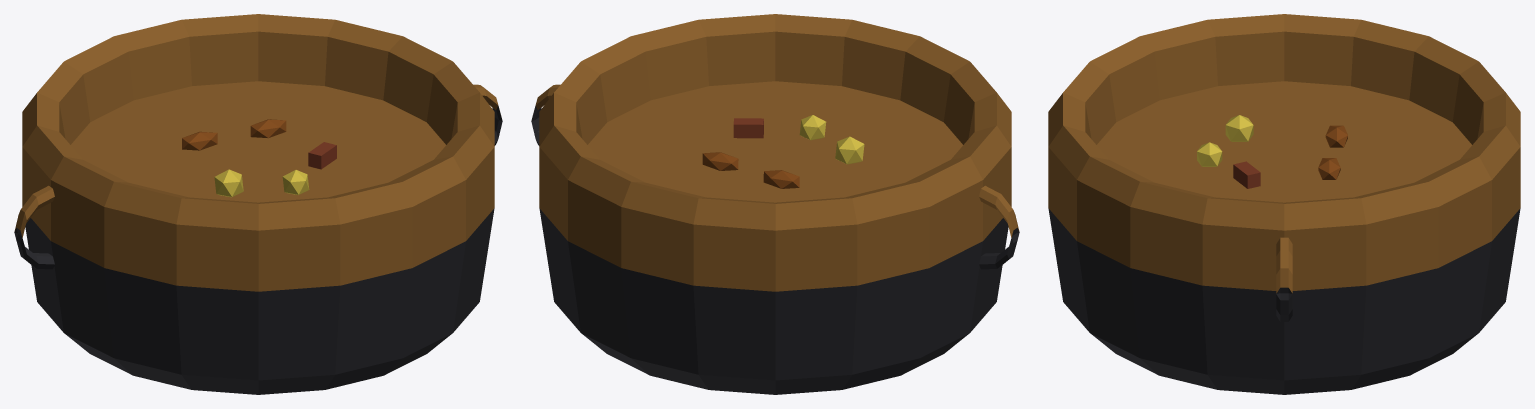
Rendered from Country_Stew.glb.
3 views of the same model, side by side, from view 1: azimuth 30°, elevation 25°; view 2: azimuth 150°, elevation 25°; view 3: azimuth 270°, elevation 25° (orthographic).
Parts seen in each view (by area): view 1: _I_CountryStew; view 2: _I_CountryStew; view 3: _I_CountryStew.
Boxes of the visible parts, bbox=[...] form: _I_CountryStew: bbox=[14, 14, 502, 394]; _I_CountryStew: bbox=[531, 14, 1019, 394]; _I_CountryStew: bbox=[1048, 14, 1520, 394].
Size of the model in its own units: 0.74 by 0.3 by 0.6303.
